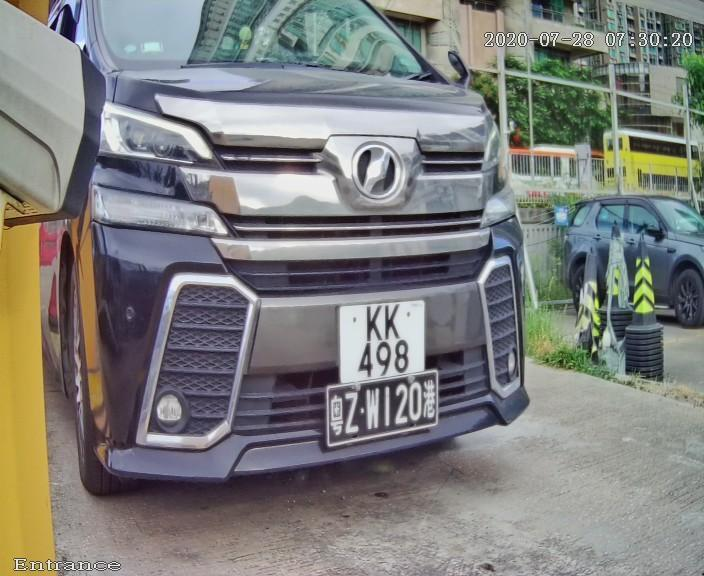privatecar: (1, 1, 635, 533)
